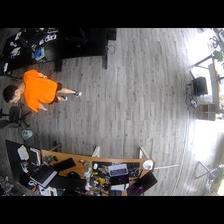normal: (4, 68, 81, 110)
